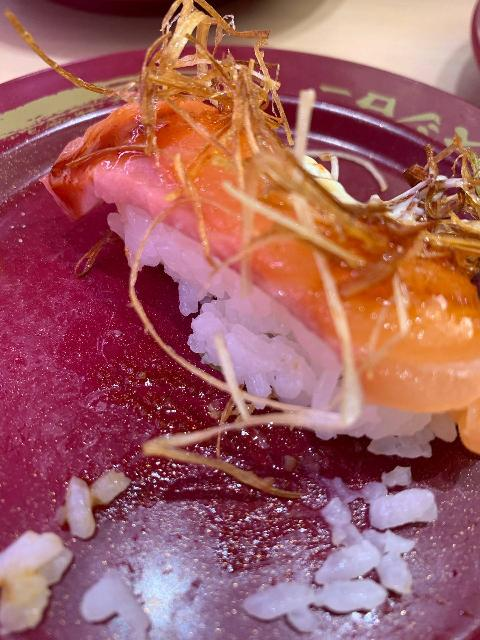janred: (5, 64, 480, 640), (453, 0, 480, 110)
